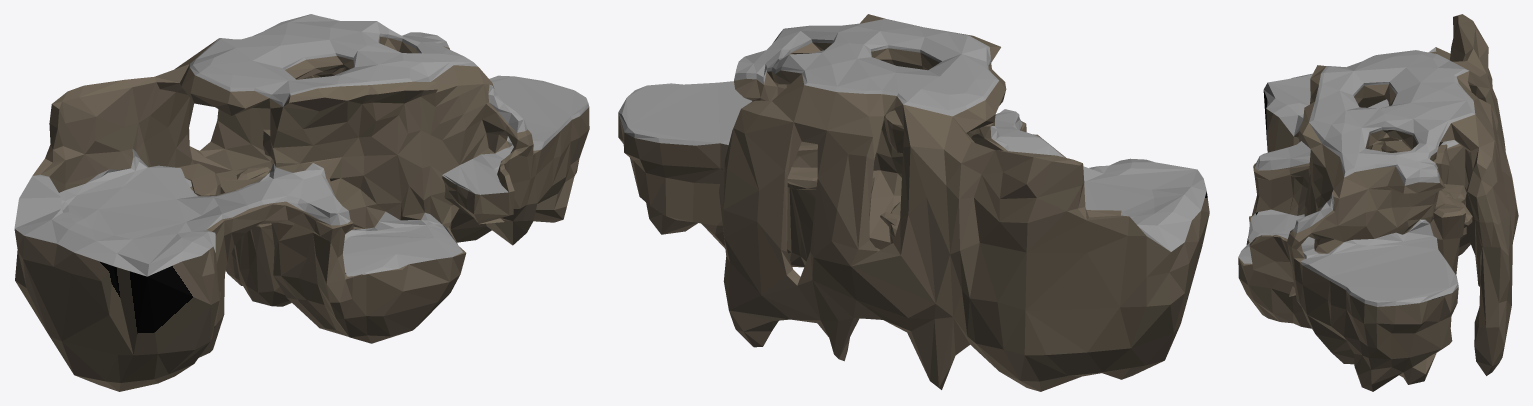
Rendered from ice_ice_snowrock_meltIntro.fbx.
3 renders of one model, left to right at view 1: azimuth 30°, elevation 25°; view 2: azimuth 150°, elevation 25°; view 3: azimuth 270°, elevation 25°, orthographic. The views are drawn at different scales.
Parts seen in each view (by area): view 1: ice_snowrock_meltIntro; view 2: ice_snowrock_meltIntro; view 3: ice_snowrock_meltIntro.
Boxes of the visible parts, x1,y1,x2,y2 form: ice_snowrock_meltIntro: (14,14,589,391); ice_snowrock_meltIntro: (618,14,1209,391); ice_snowrock_meltIntro: (1238,14,1518,391).
Bounding box in the file's own units: 79.69 × 37.59 × 38.08.
Materials: 2 (1 with a texture image).
